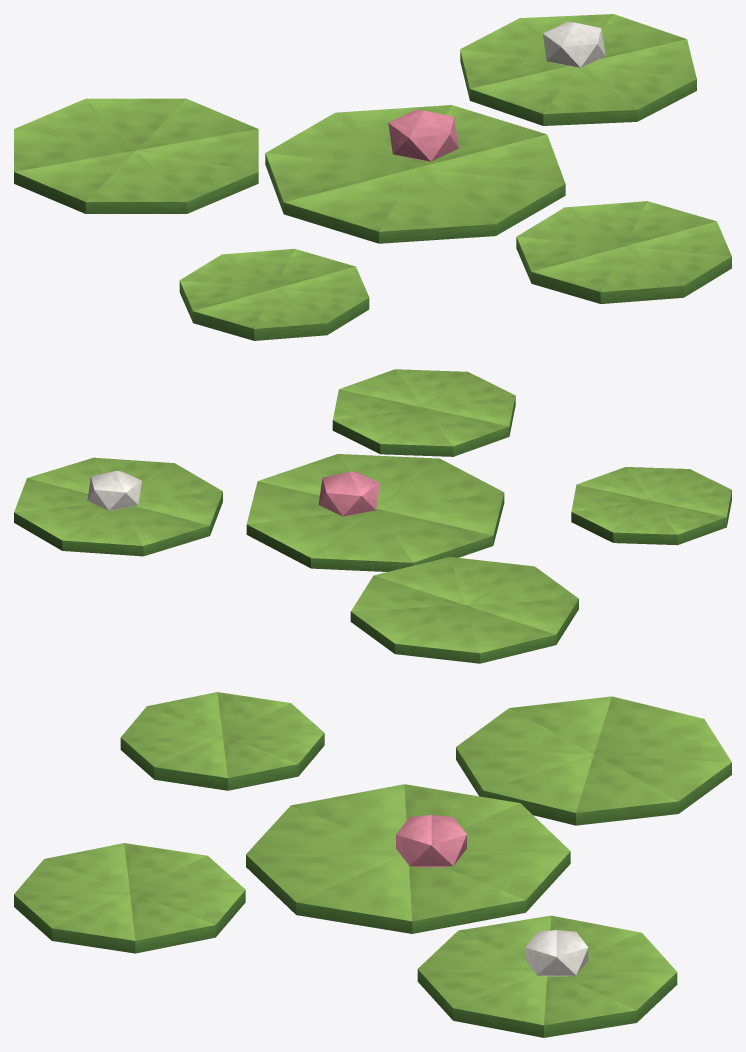
The model's file is water_lilypads_01.glb.
3 renders of one model, top to bottom at view 1: azimuth 30°, elevation 25°; view 2: azimuth 150°, elevation 25°; view 3: azimuth 270°, elevation 25°, orthographic. The views are drawn at different scales.
Parts seen in each view (by area): view 1: water_lilypads_01; view 2: water_lilypads_01; view 3: water_lilypads_01.
Boxes of the visible parts, x1,y1,x2,y2 form: water_lilypads_01: (14,14,731,340); water_lilypads_01: (14,369,731,663); water_lilypads_01: (14,692,731,1037).
Bounding box in the file's own units: 1.7 × 0.143 × 1.55.
1 material, 1 textured.
